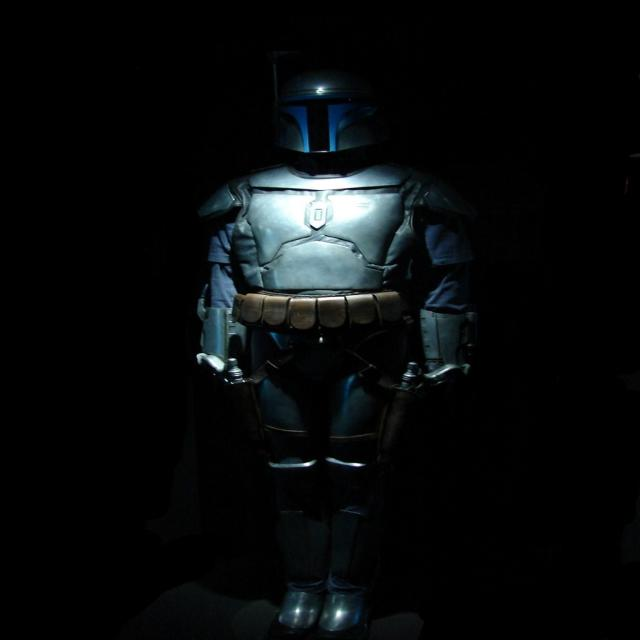Toy: (192, 63, 482, 640)
